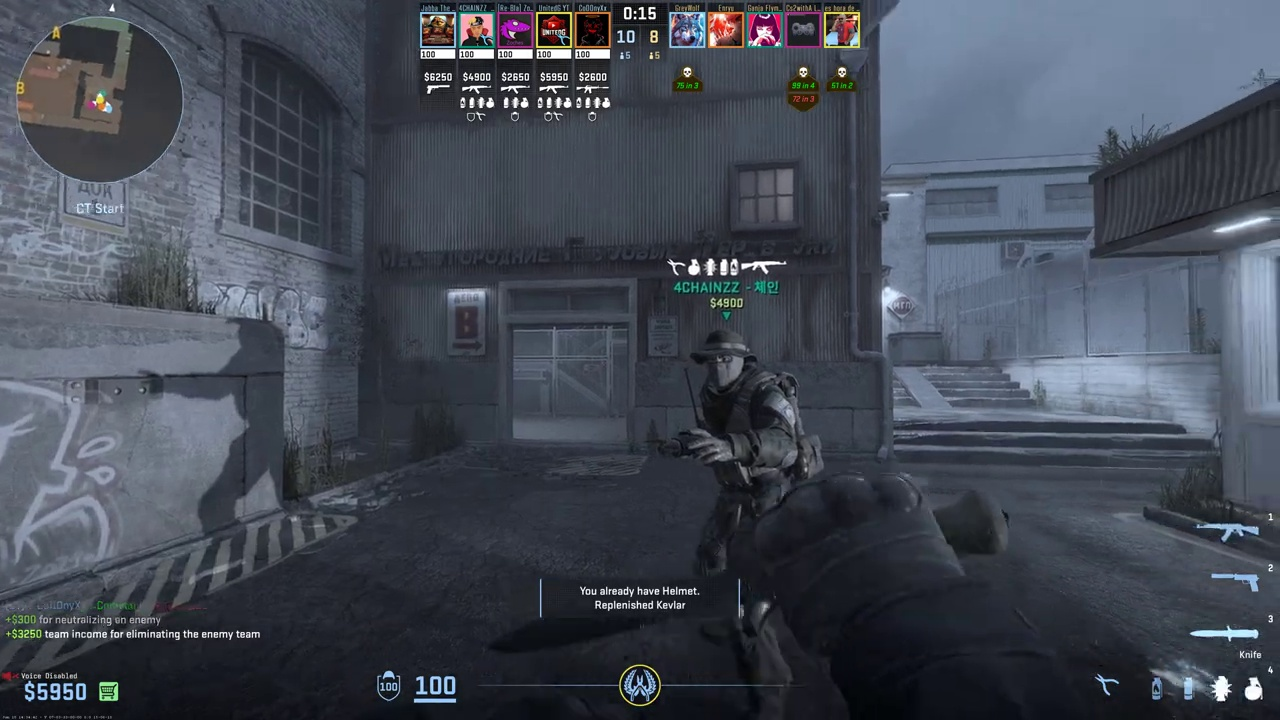CT: (678, 327, 796, 574)
